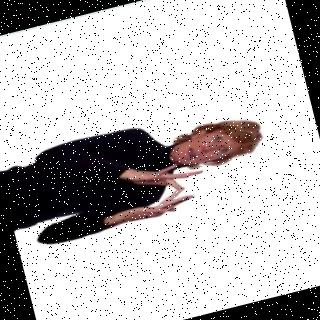Internet: (0, 93, 276, 254)
